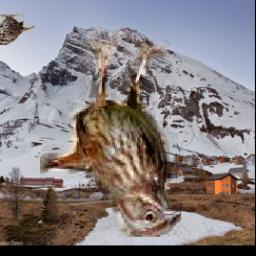Sparrow: (40, 39, 181, 238), (0, 14, 35, 45)
